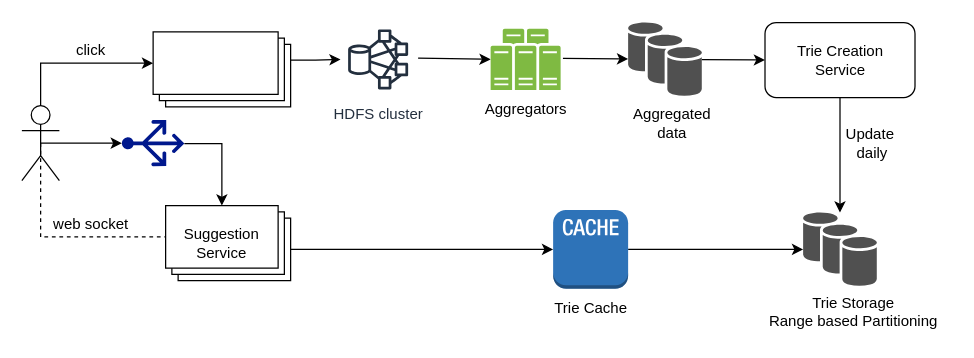
Image size: 974x358. Some labels were removed from this diagram. Here are the shapes that lost their labels. From the top down, the centre of each, then its label:
At pixel 221 69: "Data Gathering Service".
At pixel 40 142: "User".
